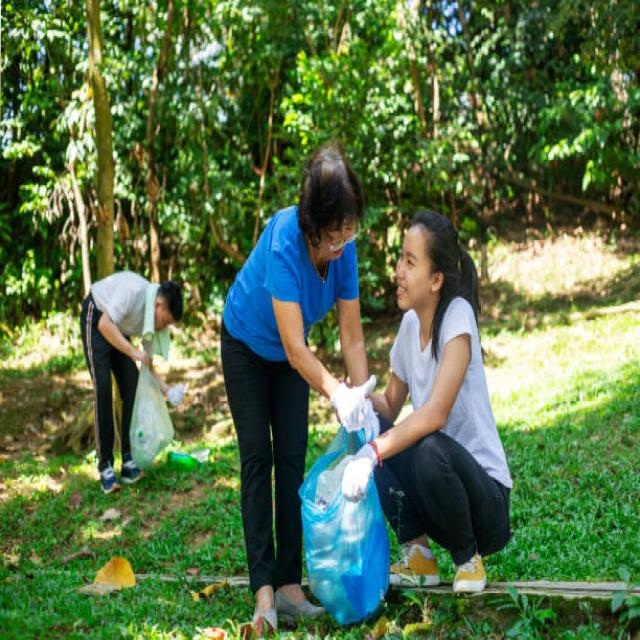trash: (271, 422, 409, 609), (124, 366, 179, 474)
